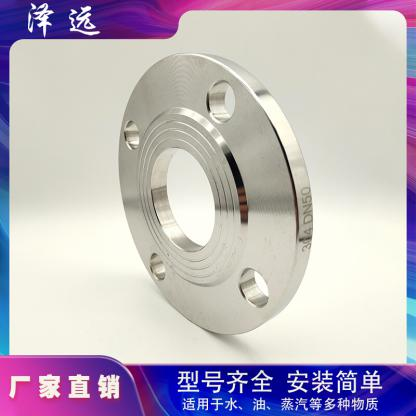FOD: (114, 47, 318, 340)
